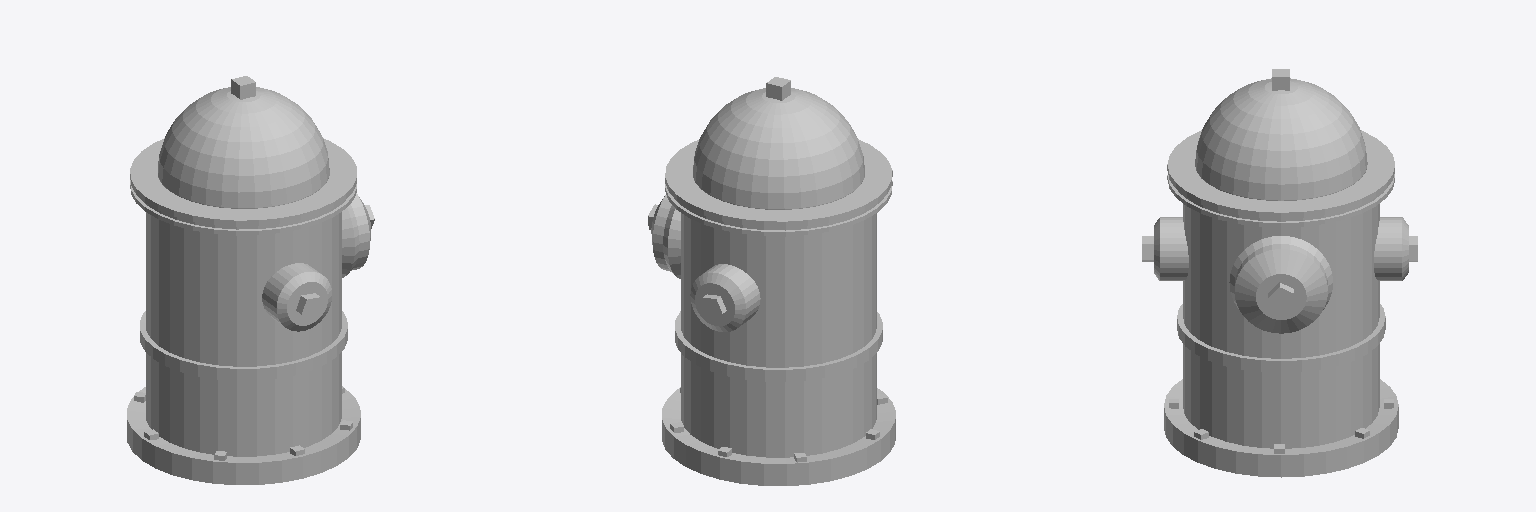
File: fire_hydrant (1).obj
3 views of the same model, side by side, from view 1: azimuth 30°, elevation 25°; view 2: azimuth 150°, elevation 25°; view 3: azimuth 270°, elevation 25° (orthographic).
Visible parts, largest first — view 1: Cylinder; view 2: Cylinder; view 3: Cylinder.
Boxes of the visible parts, x1=… form: Cylinder: x1=127, y1=76, x2=374, y2=484; Cylinder: x1=648, y1=77, x2=895, y2=485; Cylinder: x1=1142, y1=69, x2=1417, y2=477.
Bounding box in the file's own units: 0.5108 × 0.7651 × 0.5374.